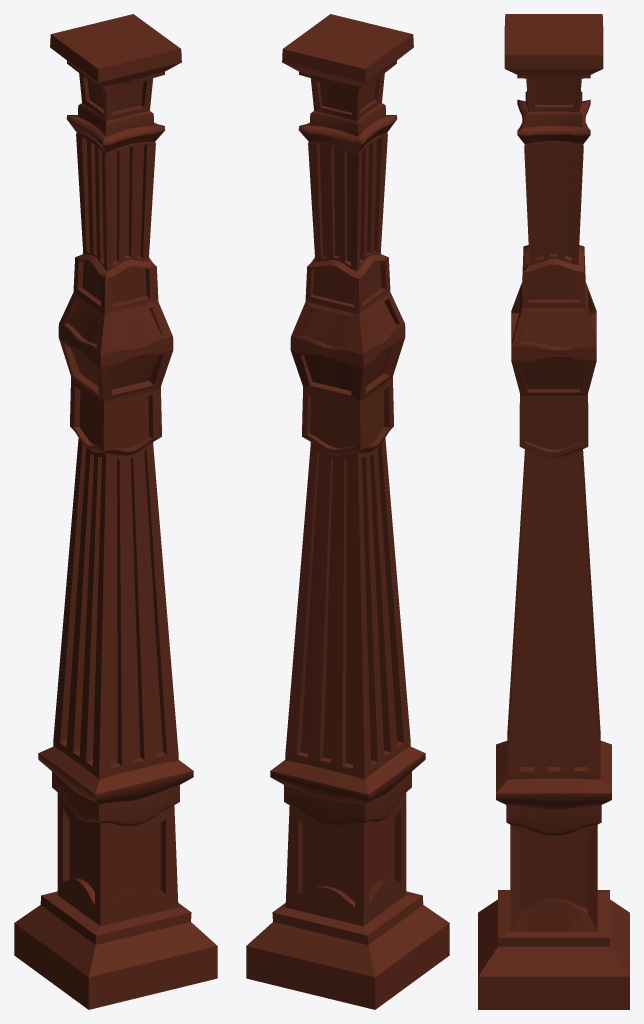
File: Mesh_Pedestal.fbx
The picture shows the model from 3 angles, left to right: view 1: azimuth 30°, elevation 25°; view 2: azimuth 150°, elevation 25°; view 3: azimuth 270°, elevation 25°; orthographic projection.
Parts seen in each view (by area): view 1: polySurface3567; view 2: polySurface3567; view 3: polySurface3567.
Part boxes in pixels (x1,y1,x2,y2): polySurface3567: (14,14,217,1009); polySurface3567: (246,14,449,1009); polySurface3567: (478,14,629,1009).
Bounding box in the file's own units: 136 × 931 × 136.
